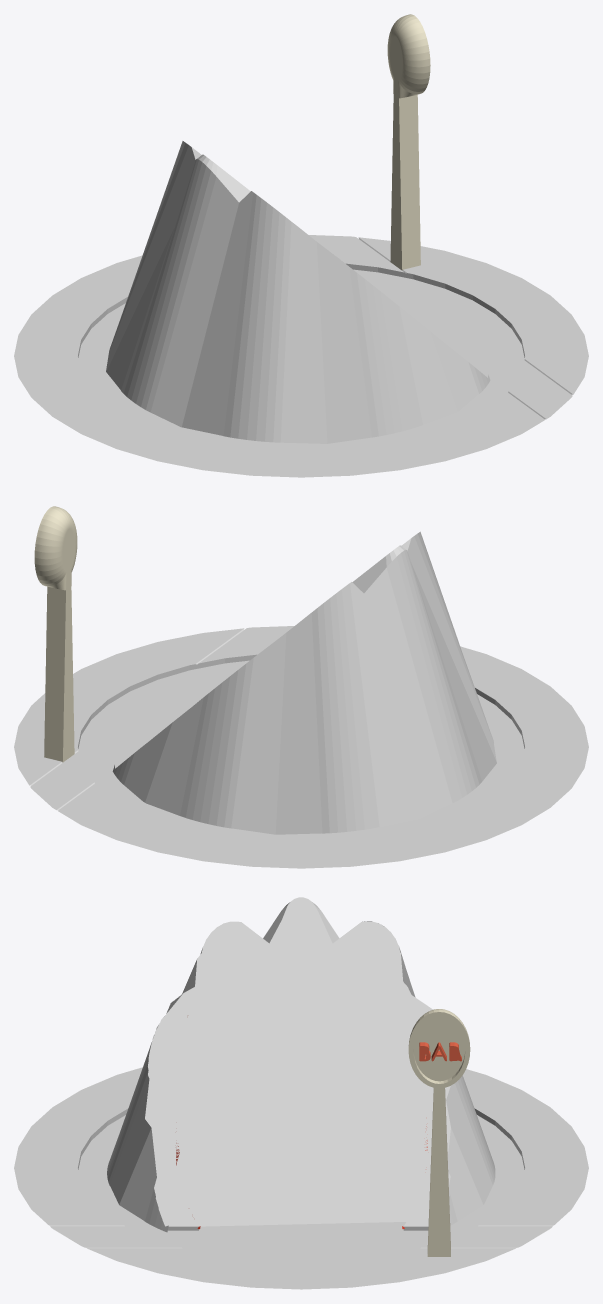
Rendered from barCut.fbx.
3 views of the same model, one above another, from view 1: azimuth 30°, elevation 25°; view 2: azimuth 150°, elevation 25°; view 3: azimuth 270°, elevation 25° (orthographic).
Visible parts, largest first — view 1: Cylinder.005, Cylinder.007; view 2: Cylinder.005, Cylinder.007; view 3: Cylinder.005, Cylinder.007.
Boxes of the visible parts, box(x1,y1,x2,y2) form: Cylinder.005: box(14, 141, 588, 477); Cylinder.007: box(387, 14, 430, 270); Cylinder.005: box(14, 531, 588, 868); Cylinder.007: box(34, 506, 77, 762); Cylinder.005: box(14, 897, 588, 1289); Cylinder.007: box(408, 1009, 470, 1256).
Size of the model in its own units: 1054 by 547 by 1054.
